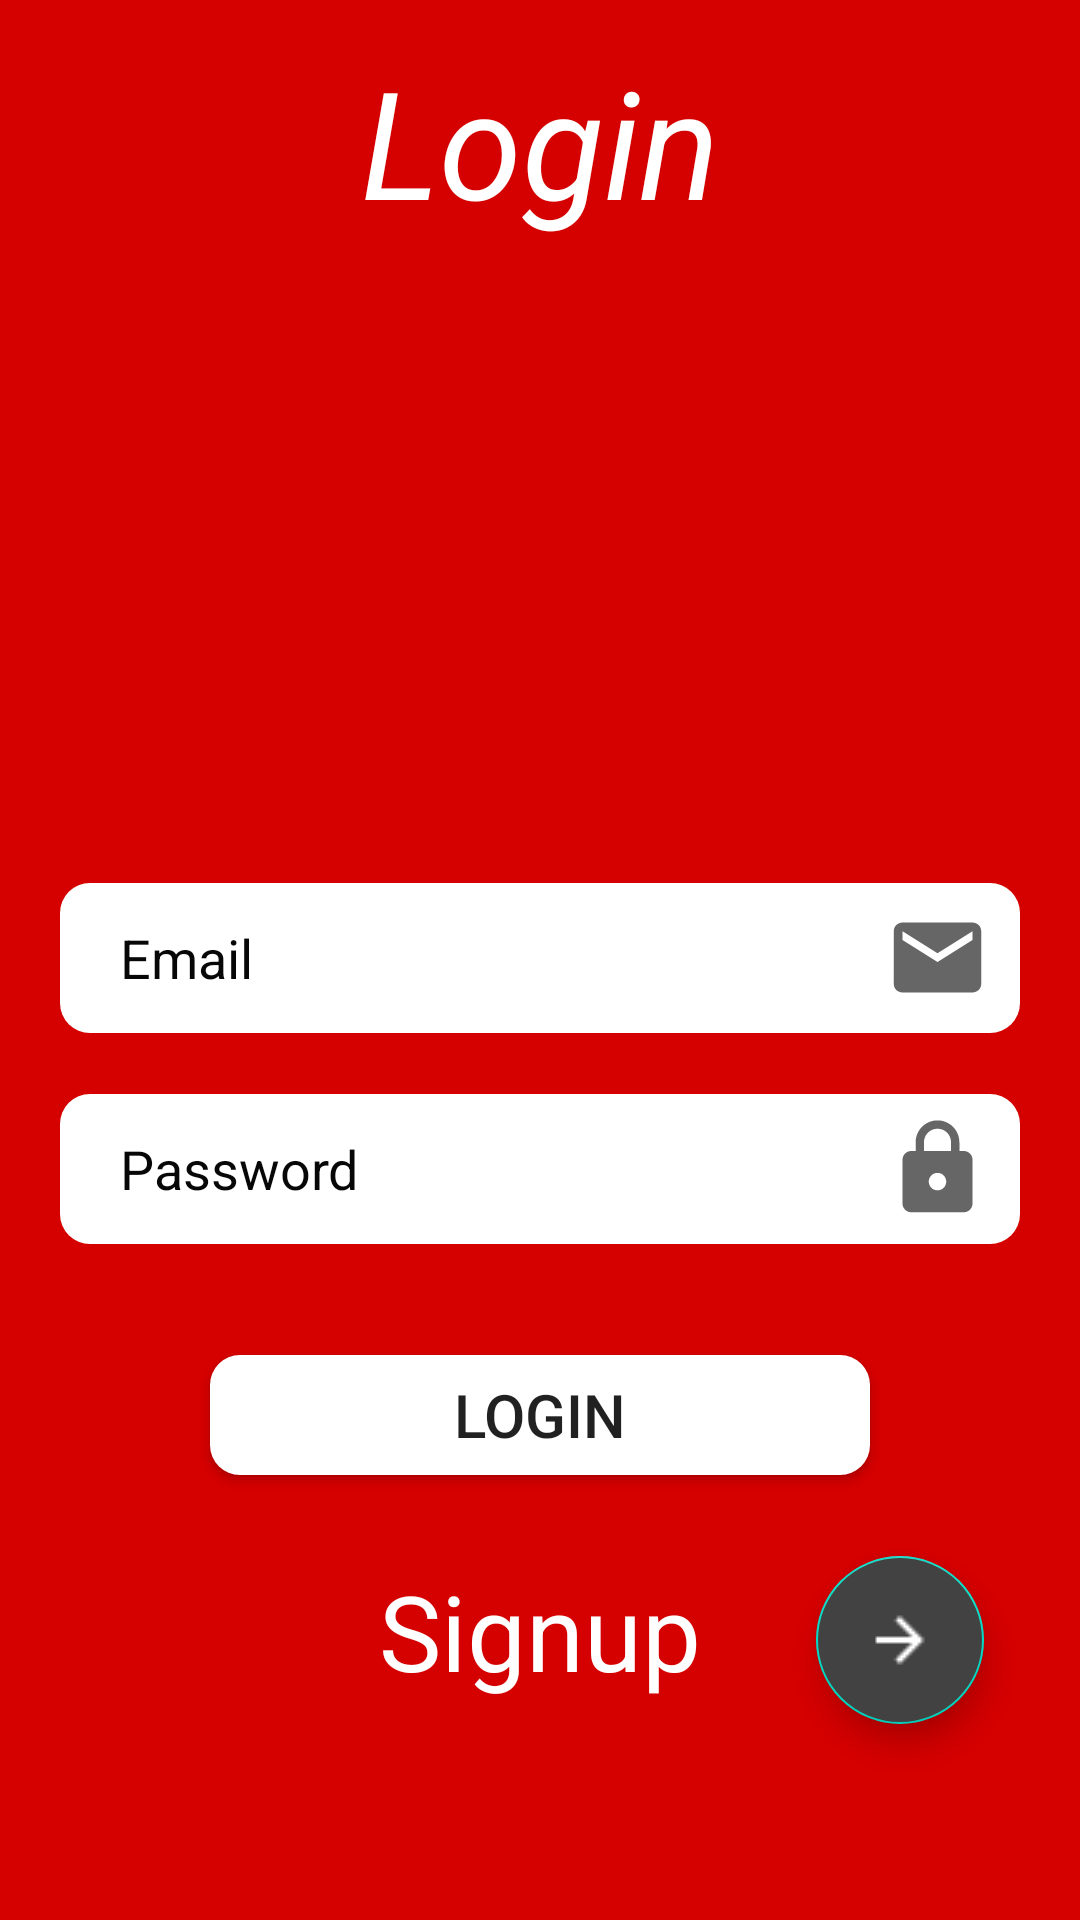

Screen size 1080x1920. Icon name, then its box in pixels as (x1, y1, x2, y2):
arrowright: (816, 1556, 984, 1724)
